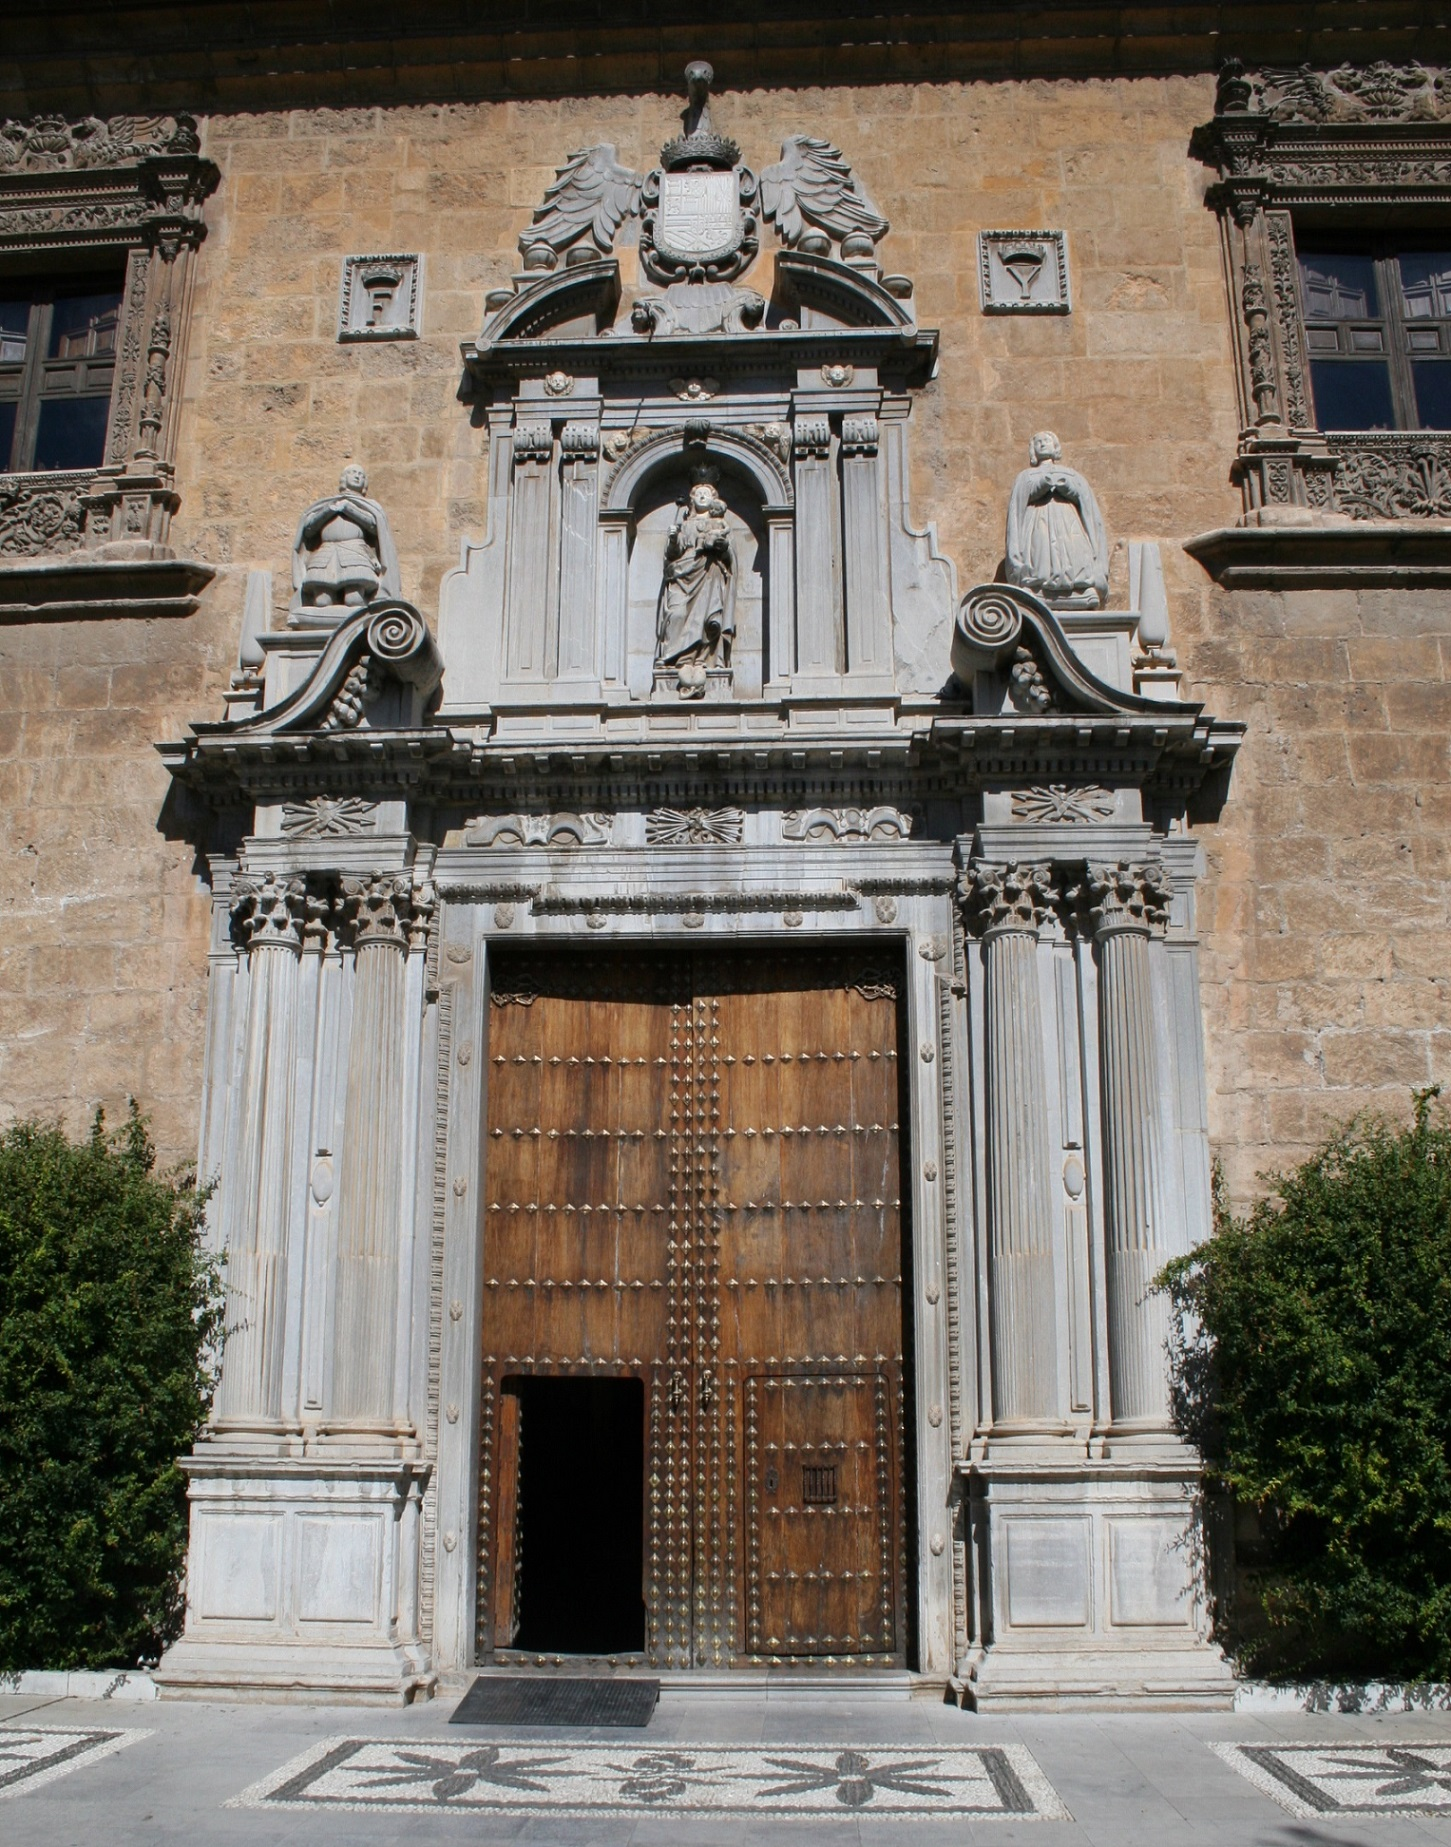fronton-partido: (163, 577, 1196, 757), (450, 252, 929, 369)
vano-adintelado: (432, 873, 959, 1697), (1210, 172, 1451, 442), (1, 213, 208, 480)
